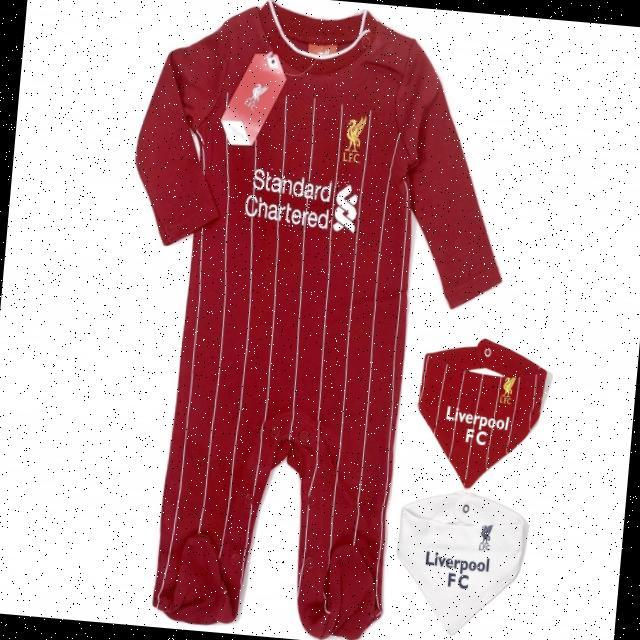Standard Chartered: (242, 166, 361, 236)
